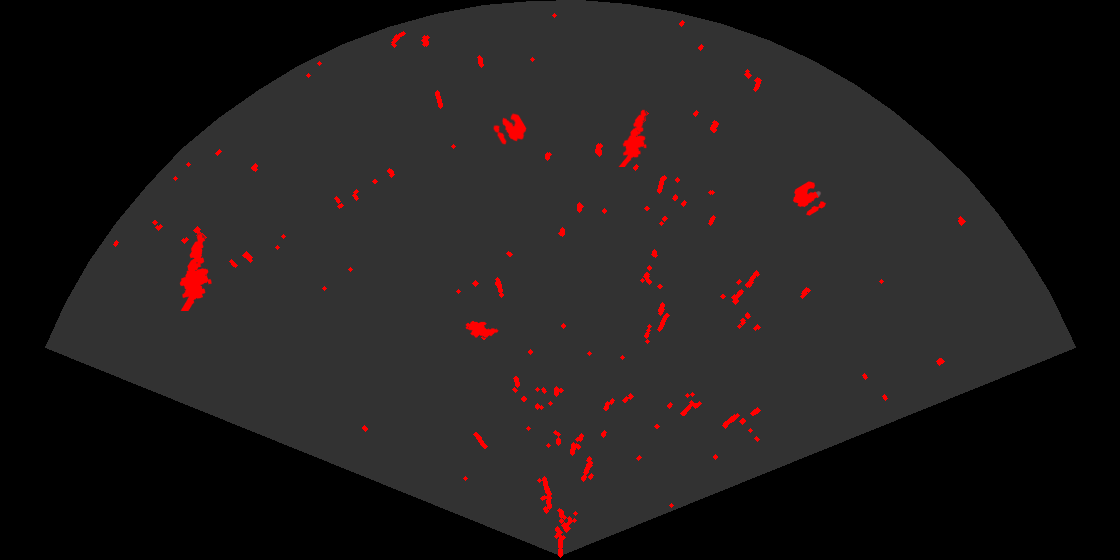AUV: (464, 319, 500, 338)
ball: (791, 180, 828, 217), (491, 112, 528, 146)
frogman: (178, 233, 213, 311), (617, 108, 649, 167)
